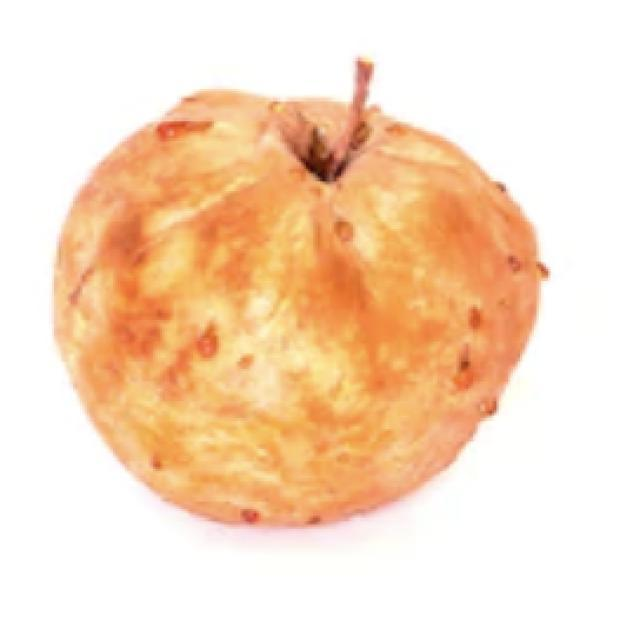Rotten: (77, 111, 565, 536)
